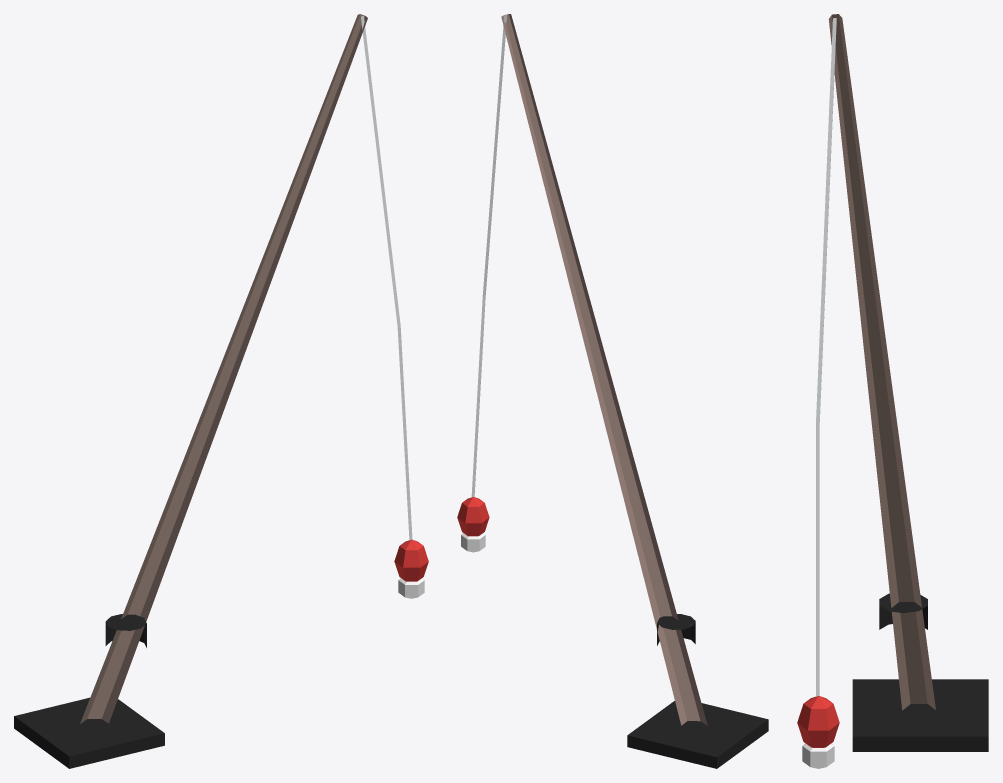
The model's file is metspo.glb.
3 views of the same model, side by side, from view 1: azimuth 30°, elevation 25°; view 2: azimuth 150°, elevation 25°; view 3: azimuth 270°, elevation 25° (orthographic). The views are drawn at different scales.
Visible parts, largest first — view 1: metspo; view 2: metspo; view 3: metspo.
Part boxes in pixels (box(x1,y1,x2,y2)): metspo: box(14, 14, 428, 768); metspo: box(457, 14, 768, 768); metspo: box(797, 14, 988, 768).
Size of the model in its own units: 0.5716 by 1.11 by 0.225.
